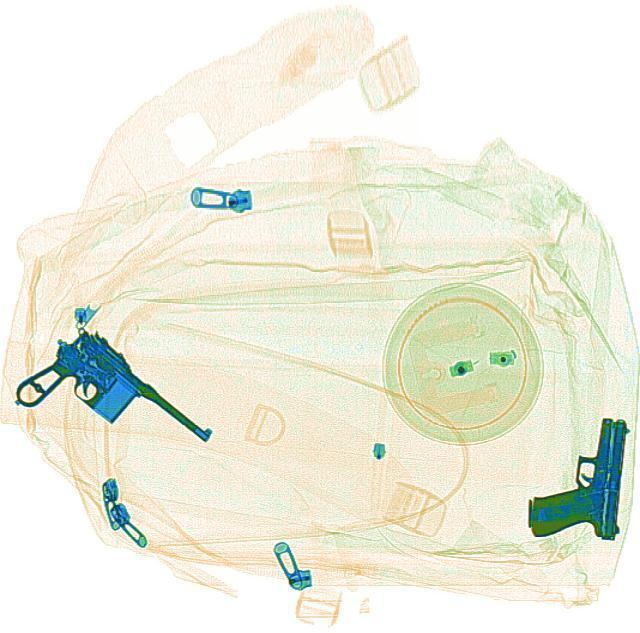Gun: (3, 315, 216, 502), (523, 409, 627, 541)
